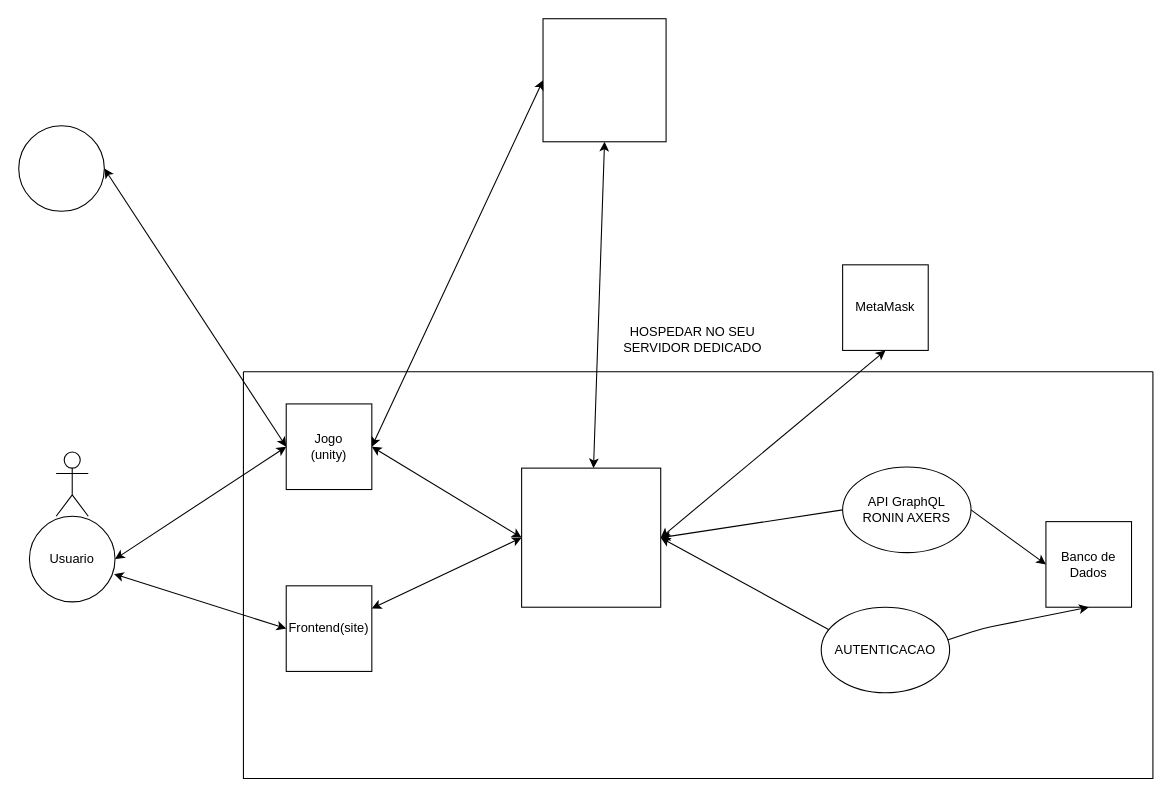
This 1172x797 diagram has some shape labels left out. The shapes that lost their labels are listed below. From the top down, each one's centre as x and y in pixels, then its label:
At pixel 604 80: "Servidor PHOTON REALTIME TRANSACTIONS".
At pixel 71 483: "Actor".
At pixel 591 537: "Backend(servidor) NODE/TS".
